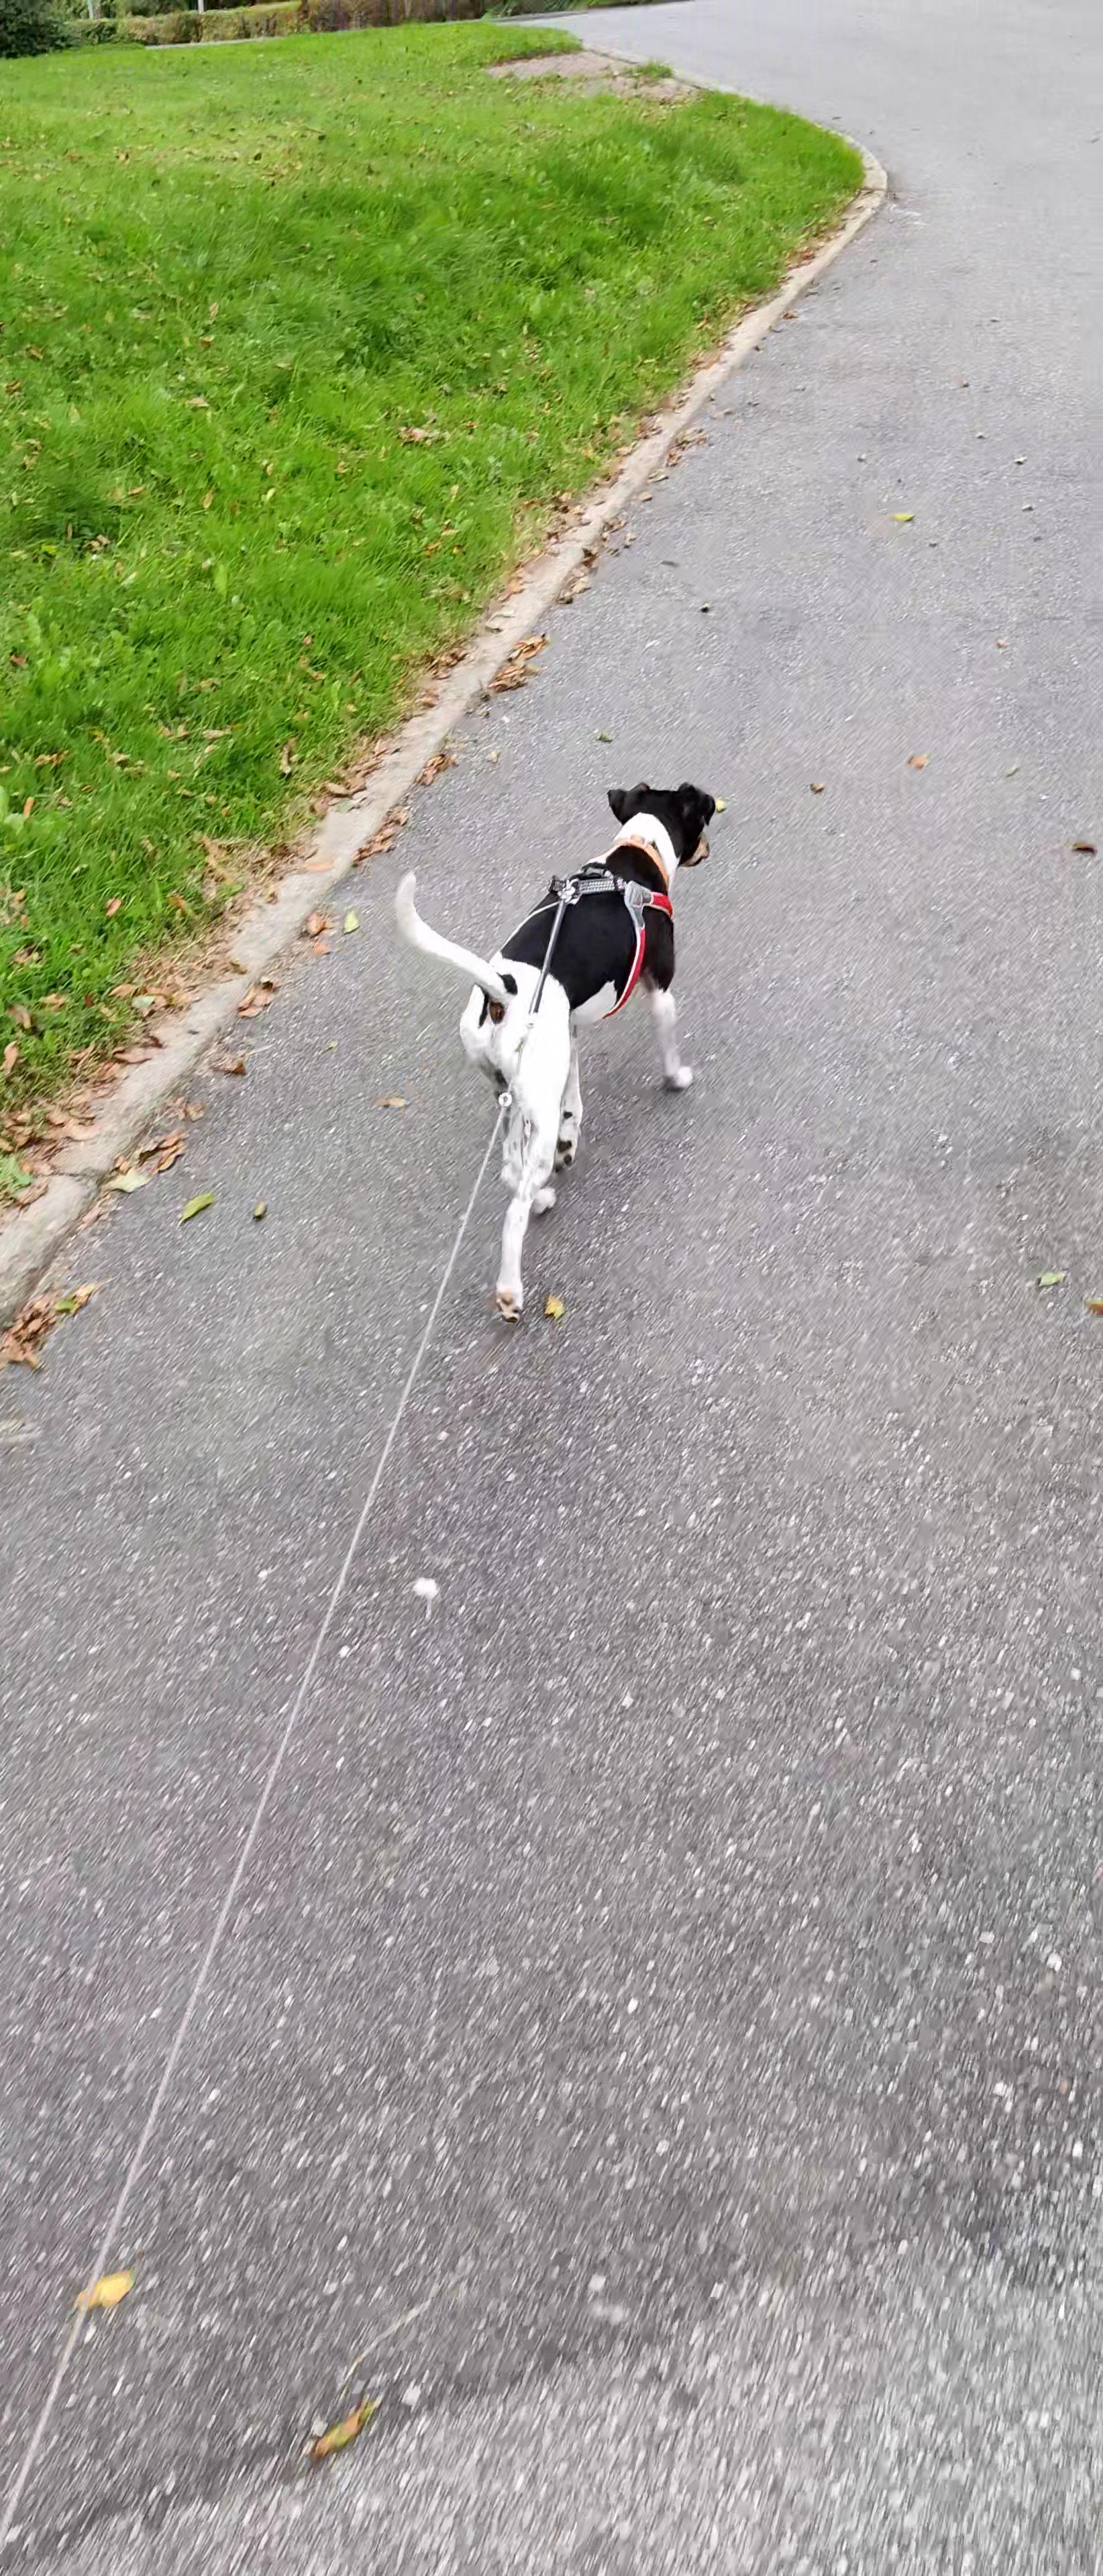Dog: (368, 756, 735, 1327)
